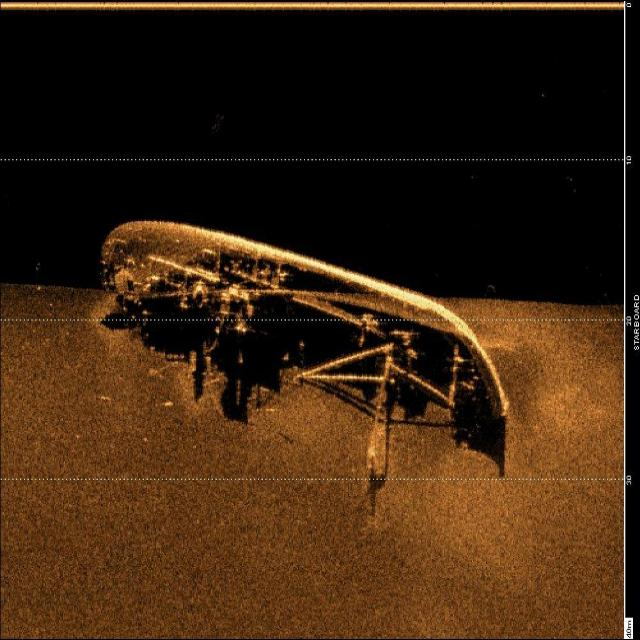ship: (99, 220, 510, 439)
